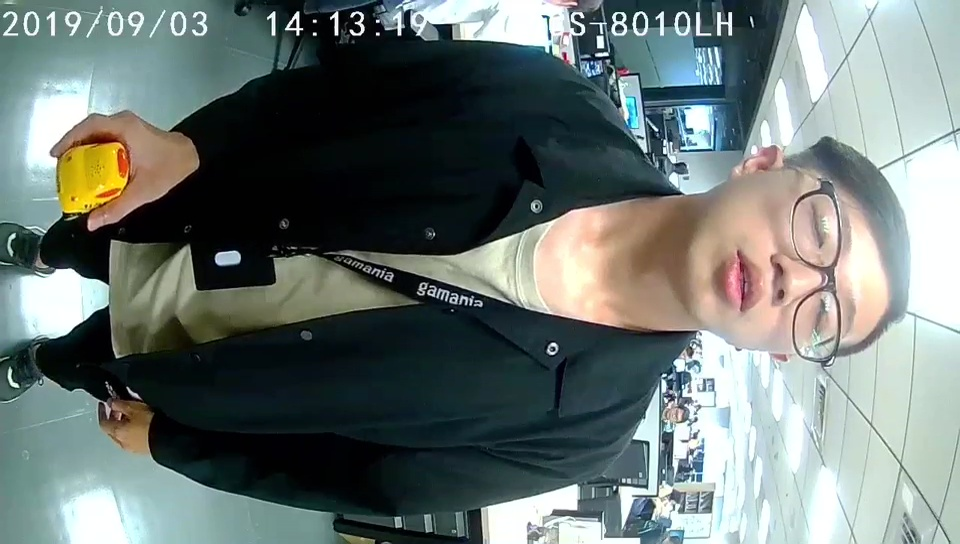car: (55, 140, 131, 212)
